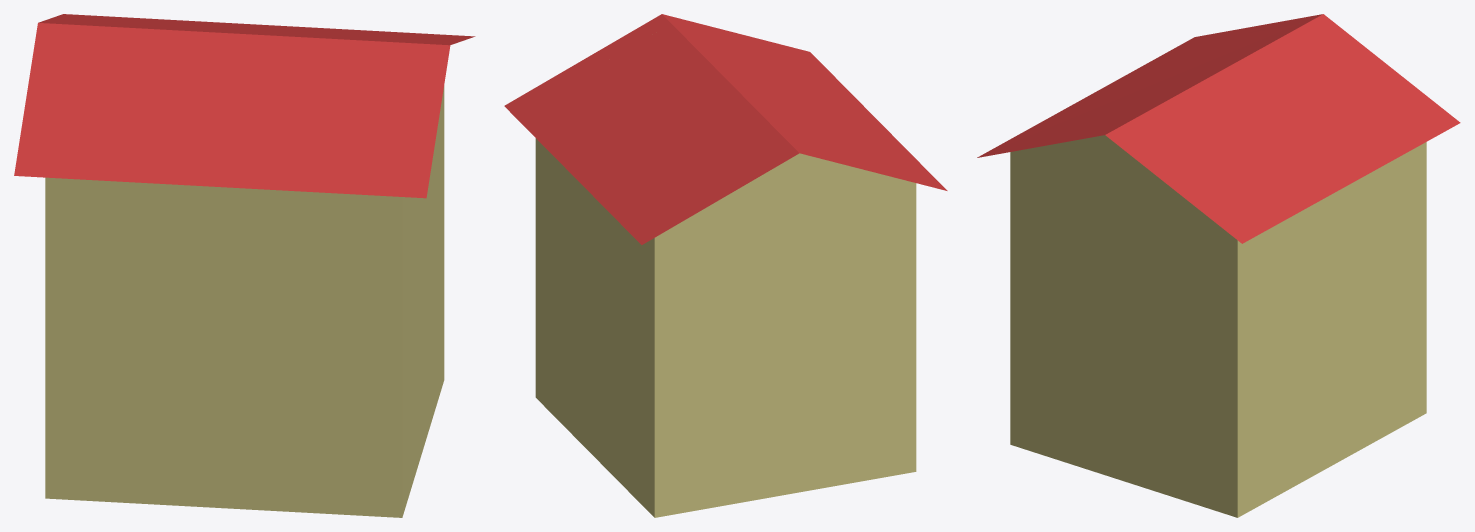
3 views of the same model, side by side, from view 1: azimuth 30°, elevation 25°; view 2: azimuth 150°, elevation 25°; view 3: azimuth 270°, elevation 25° (orthographic). The views are drawn at different scales.
Parts seen in each view (by area): view 1: group_5, group_3, group_4; view 2: group_5, group_3, group_4; view 3: group_5, group_3, group_4.
Boxes of the visible parts, bbox=[...] form: group_5: bbox=[45, 86, 444, 517]; group_3: bbox=[14, 14, 475, 198]; group_4: bbox=[38, 23, 449, 96]; group_5: bbox=[535, 138, 916, 517]; group_3: bbox=[504, 14, 947, 244]; group_4: bbox=[564, 14, 858, 161]; group_5: bbox=[1010, 135, 1426, 517]; group_3: bbox=[977, 14, 1460, 243]; group_4: bbox=[1105, 14, 1322, 200].
Bounding box in the file's own units: 15.12 × 14.97 × 12.03.
